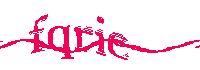c: (107, 30, 130, 62)
f: (29, 13, 49, 55)
i: (95, 16, 108, 58)
q: (48, 25, 74, 61)
r: (74, 24, 94, 52)
